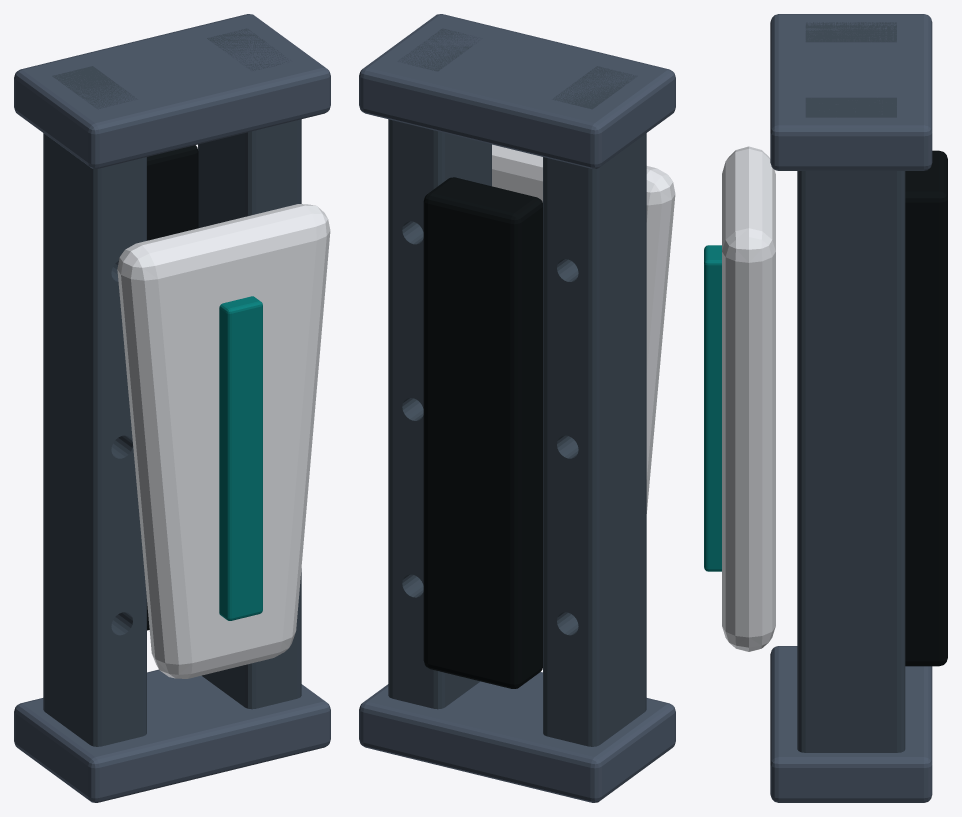
Rendered from modular_shin_frame.obj.
3 views of the same model, side by side, from view 1: azimuth 30°, elevation 25°; view 2: azimuth 150°, elevation 25°; view 3: azimuth 270°, elevation 25° (orthographic).
Parts seen in each view (by area): view 1: modular_shin_frame; view 2: modular_shin_frame; view 3: modular_shin_frame.
Part boxes in pixels (x1,y1,x2,y2): modular_shin_frame: (14,14,330,802); modular_shin_frame: (359,14,675,802); modular_shin_frame: (704,14,947,802).
Size of the model in its own units: 0.067 by 0.18 by 0.0588.
